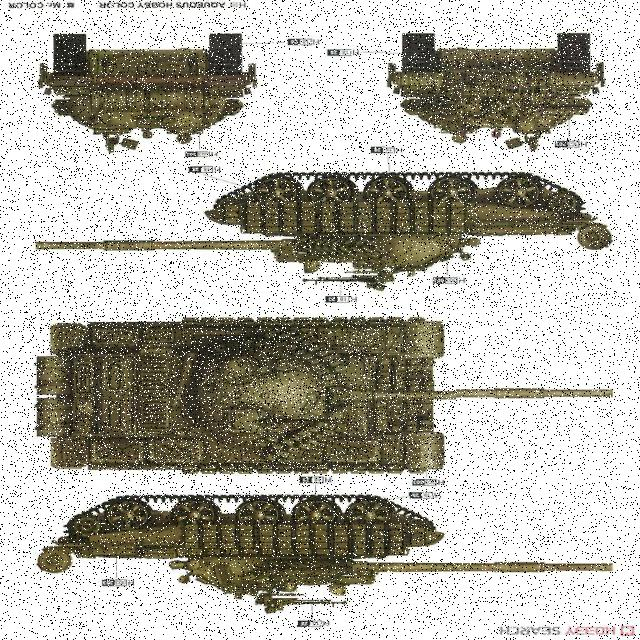MIL_MBT: (30, 163, 615, 295), (22, 312, 456, 476), (30, 496, 461, 625), (30, 20, 268, 154), (385, 19, 609, 150)
